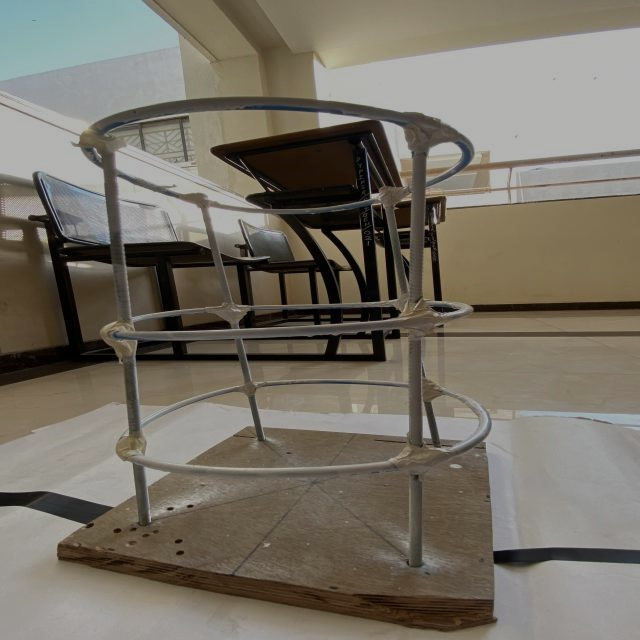silo: (34, 76, 536, 620)
